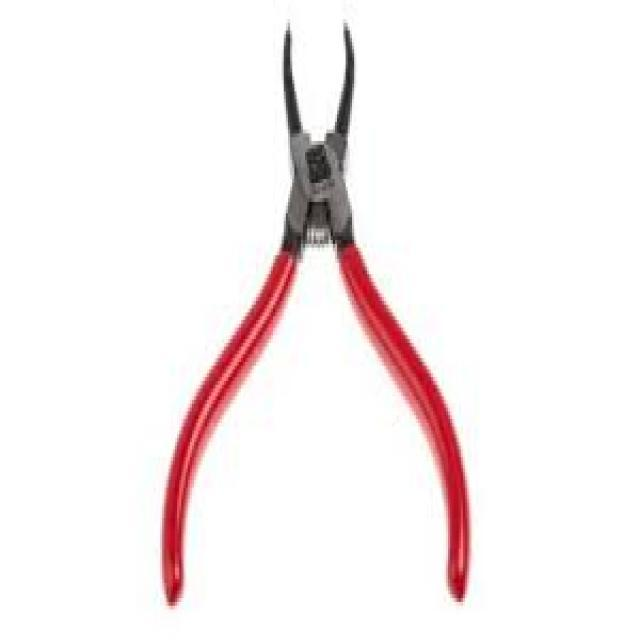pliers: (158, 19, 478, 625)
